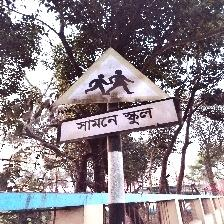School-in-front: (52, 45, 180, 144)
